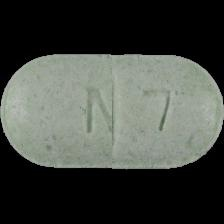43063-209: (0, 0, 224, 224)
